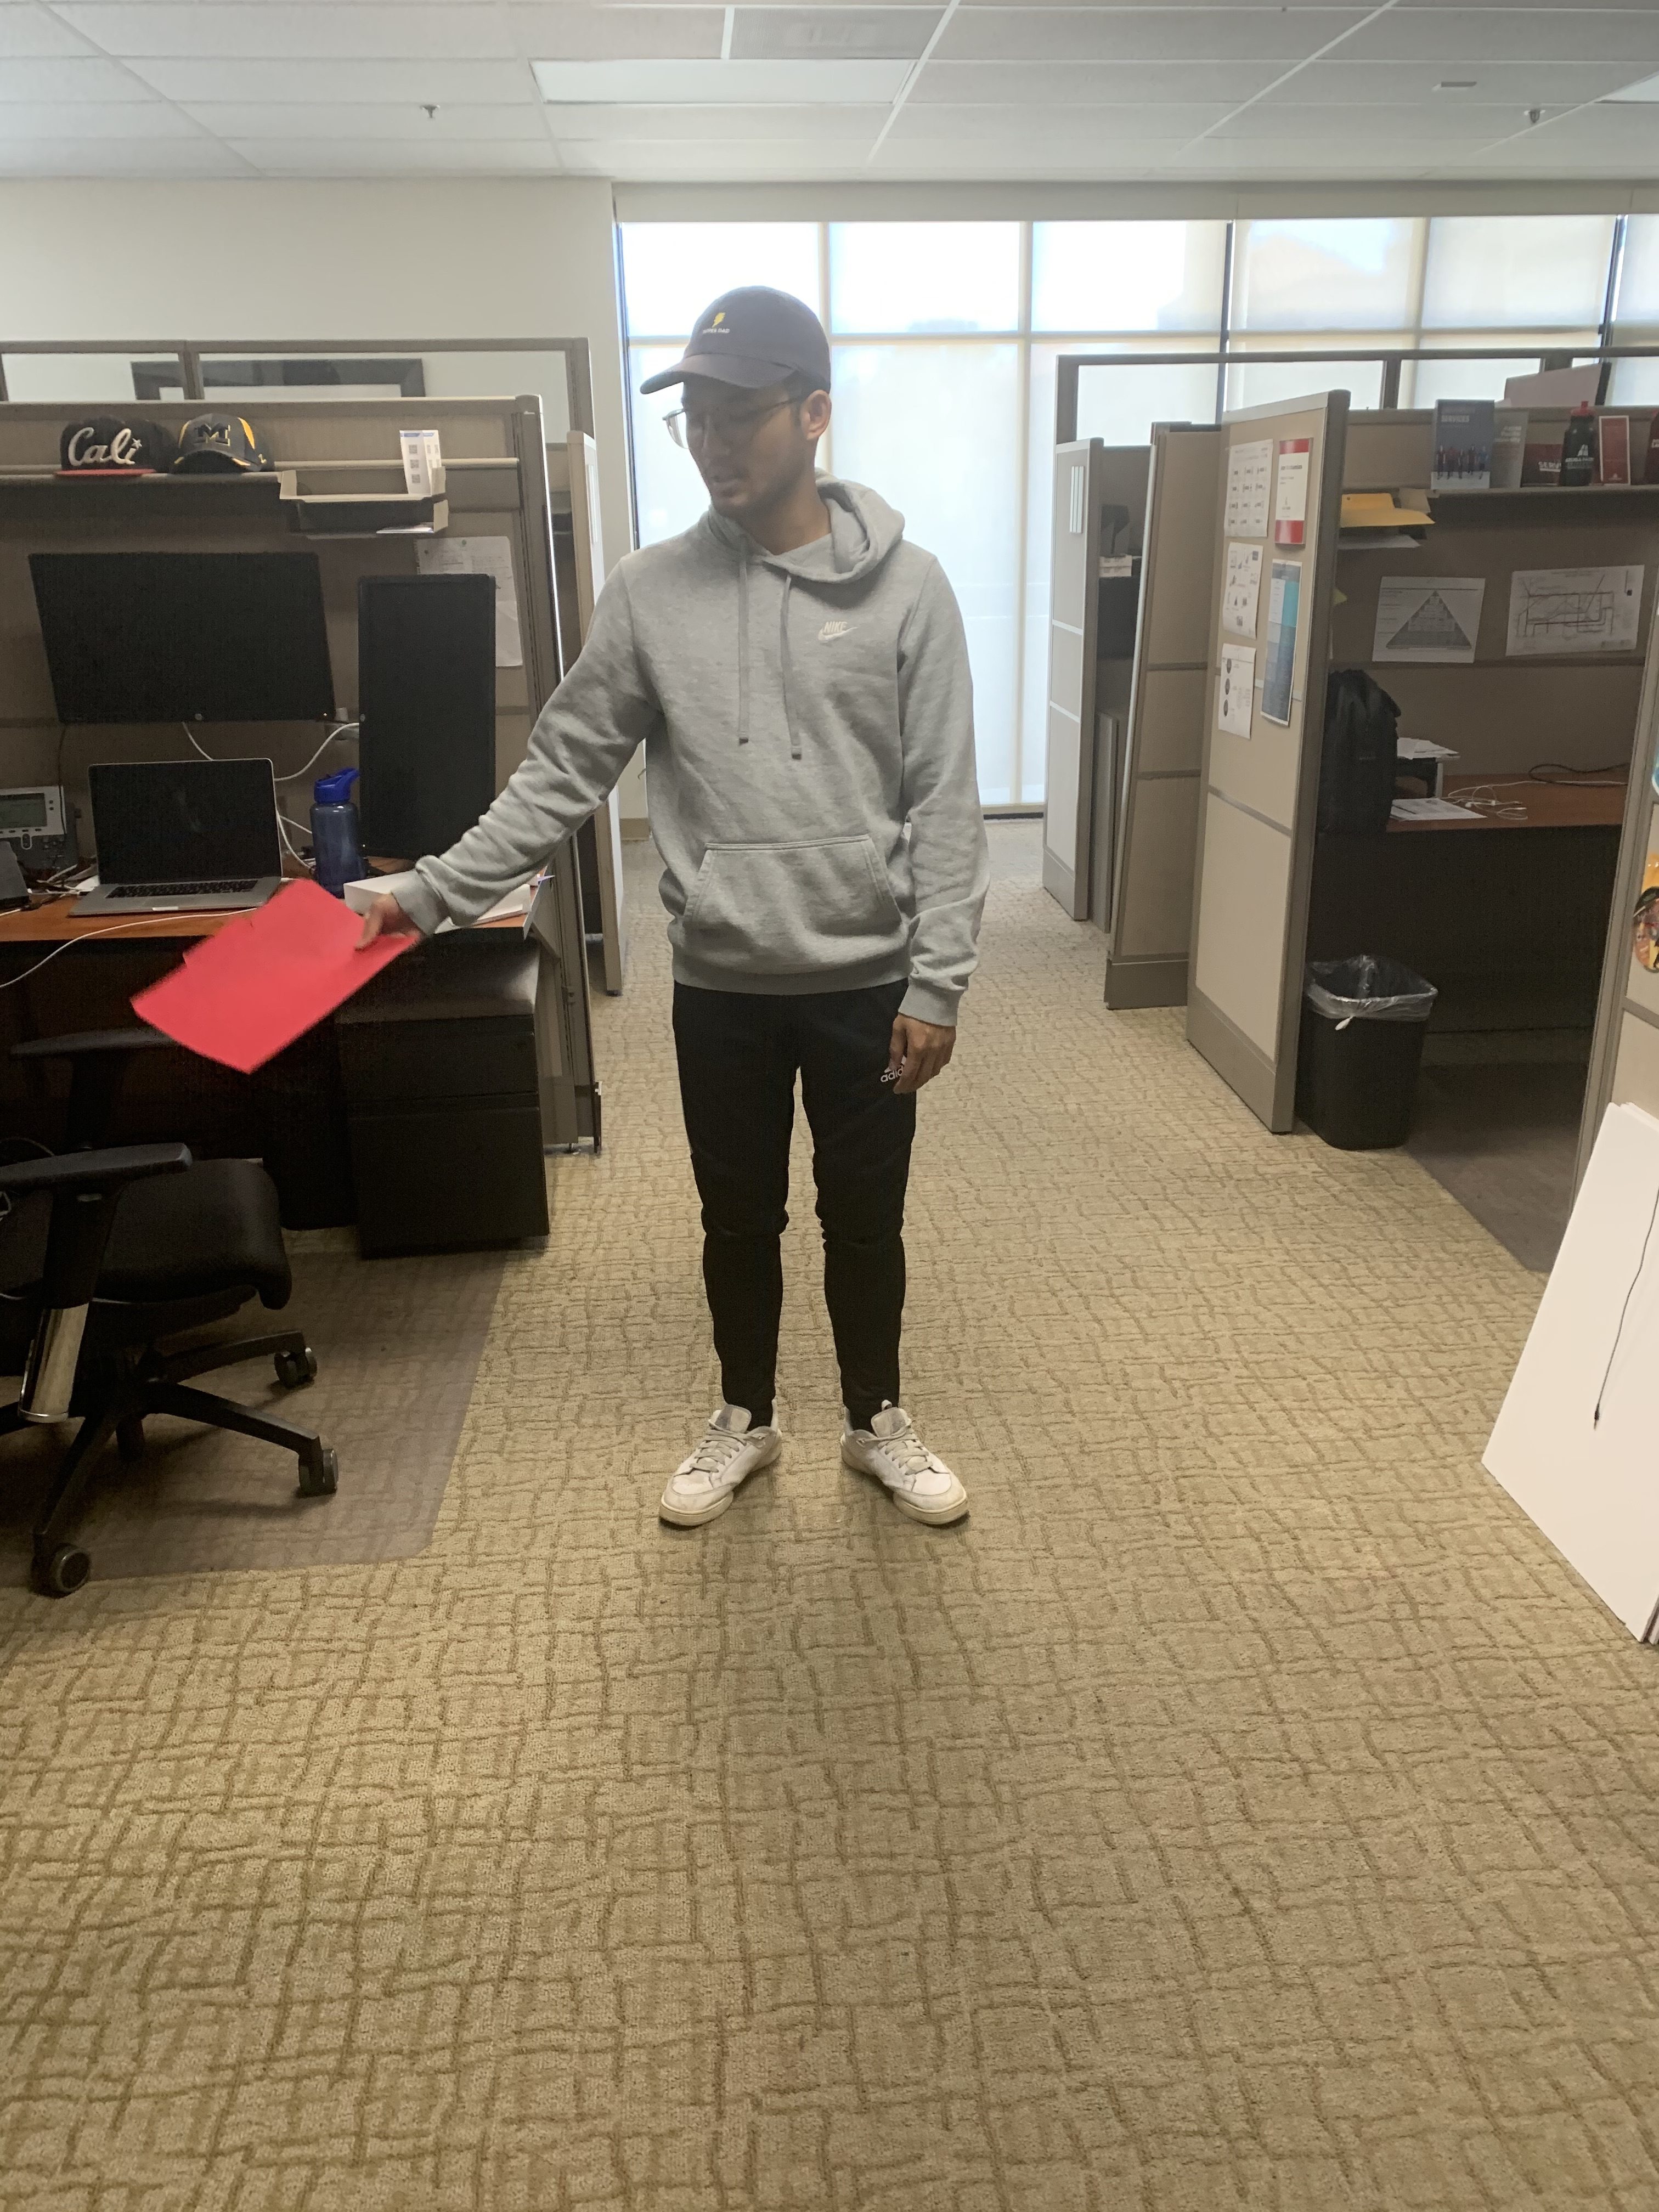red folder: (125, 878, 420, 1071)
